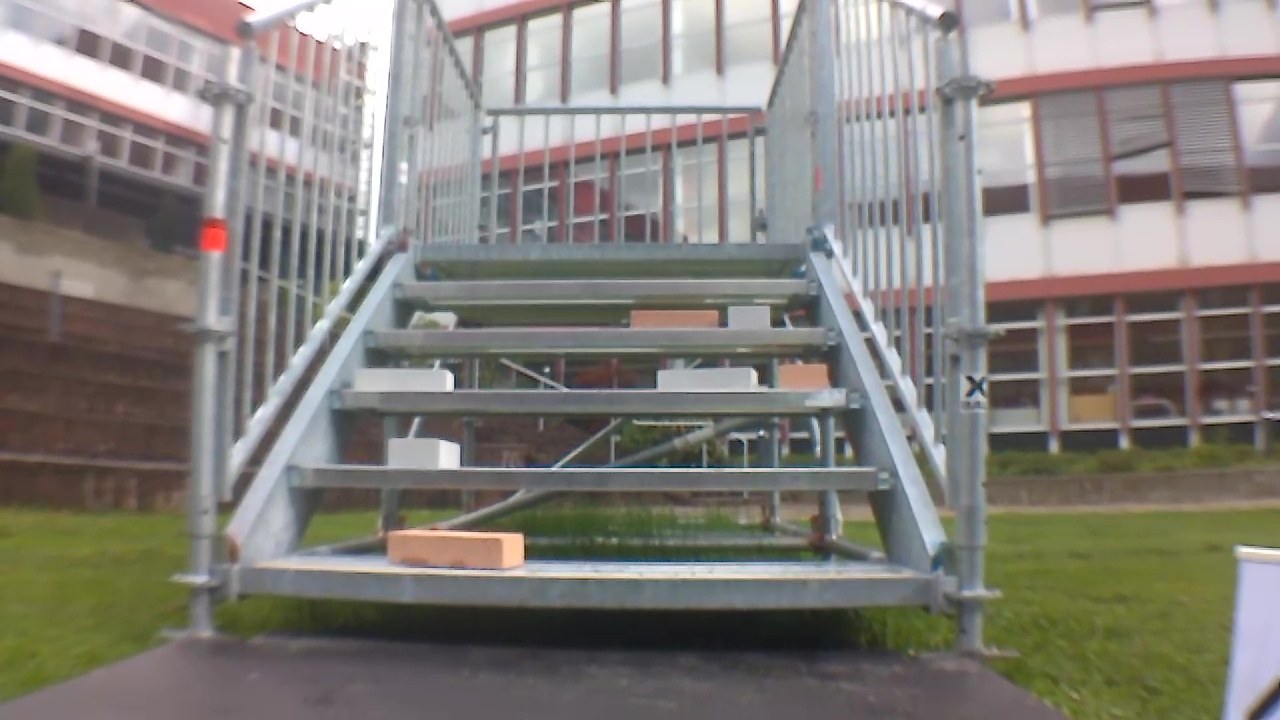brick: (386, 530, 524, 569), (658, 367, 756, 392), (388, 437, 460, 468), (355, 369, 454, 391), (633, 310, 716, 327), (780, 365, 826, 390), (728, 305, 769, 328)
edge: (241, 566, 924, 607), (284, 465, 890, 490), (328, 390, 865, 409), (364, 327, 841, 346), (395, 278, 820, 298), (420, 244, 806, 260)
stairs: (177, 5, 1008, 661)
steps: (235, 237, 931, 615)
